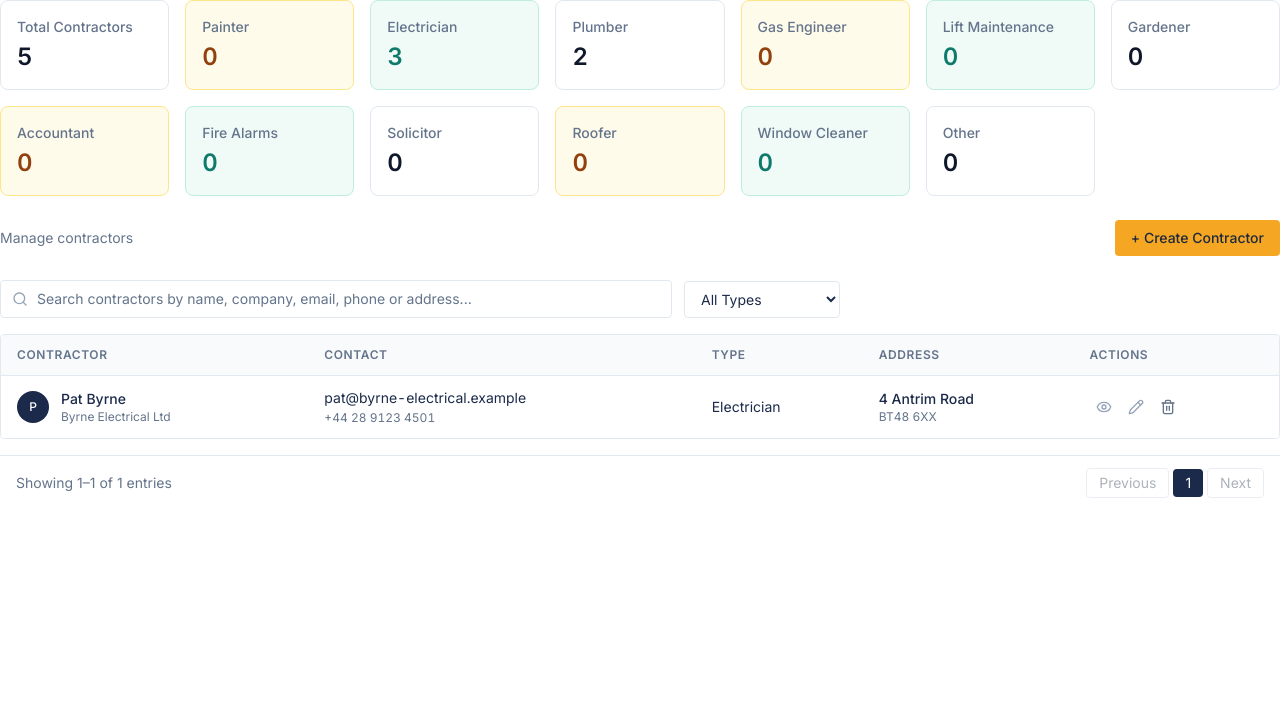
Test: ContractorsPage › shows contractor details (including description) in the view modal
Expected: the text "Pat Byrne" is shown, [61, 390, 126, 407]
Click the button named "view".
click(1104, 407)  # box [1090, 393, 1118, 421]
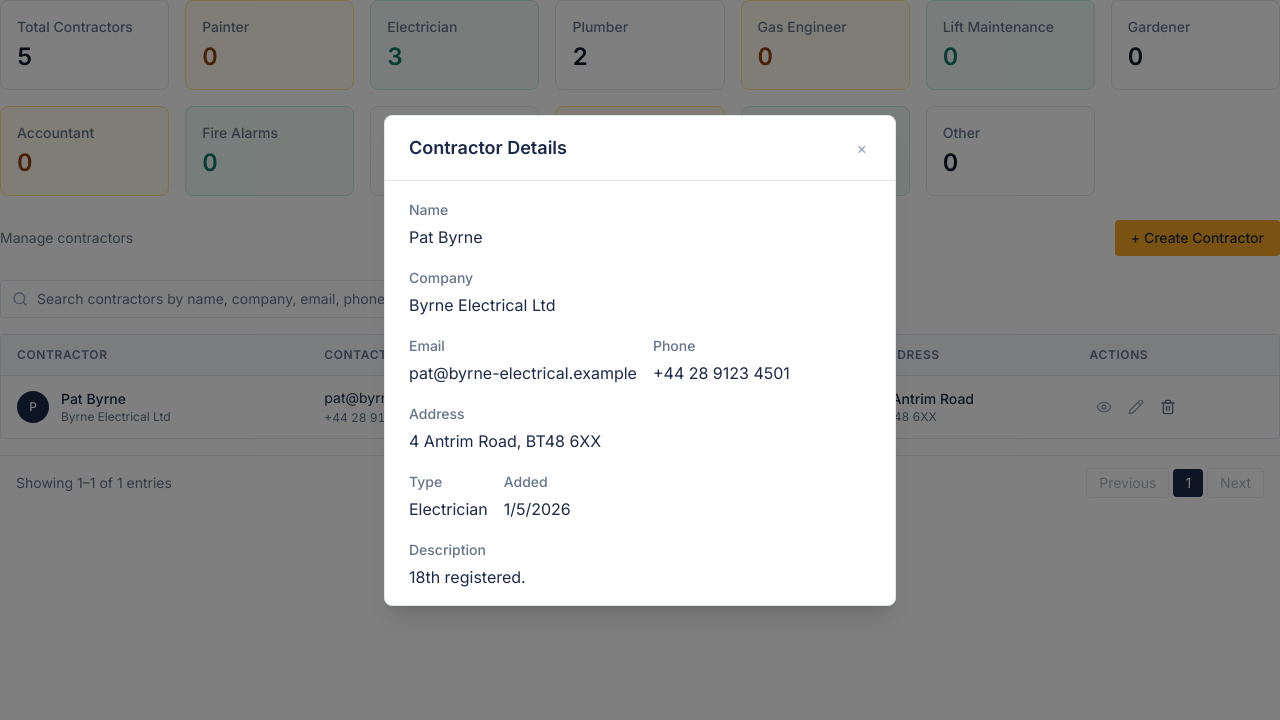
Result: the heading "Contractor Details" is shown at [409, 134, 567, 162]
Result: the text "18th registered." is shown at [409, 566, 526, 586]
